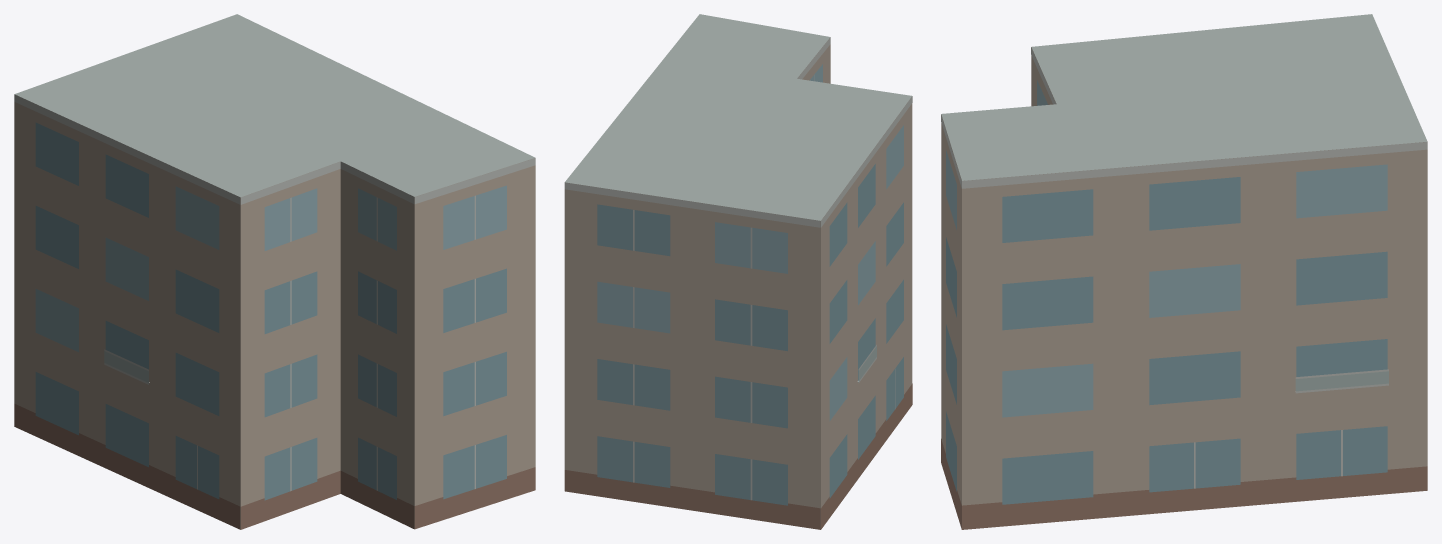
The model's file is survey-upis-32502848.glb.
The picture shows the model from 3 angles, left to right: view 1: azimuth 30°, elevation 25°; view 2: azimuth 150°, elevation 25°; view 3: azimuth 270°, elevation 25°; orthographic projection. The views are drawn at different scales.
Parts seen in each view (by area): view 1: survey-upis-32502848.tmp; view 2: survey-upis-32502848.tmp; view 3: survey-upis-32502848.tmp.
Boxes of the visible parts, x1,y1,x2,y2 form: survey-upis-32502848.tmp: [14, 14, 535, 529]; survey-upis-32502848.tmp: [564, 14, 912, 529]; survey-upis-32502848.tmp: [941, 14, 1427, 529].
Size of the model in its own units: 11.09 by 10.8 by 13.66.
